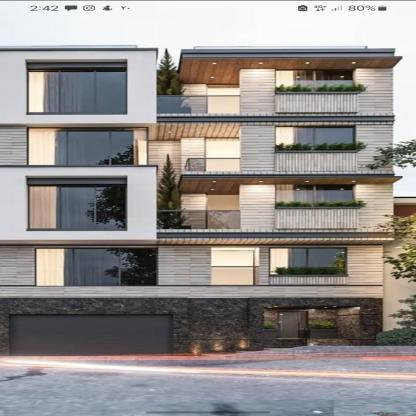Balcony: (157, 210, 241, 229), (157, 95, 241, 113), (188, 158, 241, 172)
Building Outline: (0, 45, 403, 356)
Door: (10, 314, 173, 356), (206, 193, 240, 229), (205, 138, 241, 172), (208, 85, 241, 114), (278, 312, 309, 339)
Facade: (0, 70, 383, 357)
Floor: (0, 176, 394, 233), (0, 237, 383, 293), (0, 121, 394, 172), (0, 69, 394, 116)
Floor Slab: (0, 171, 394, 176), (0, 116, 394, 120), (0, 233, 394, 237), (0, 293, 383, 297)
Ground Floor: (0, 298, 383, 357)
Window: (26, 62, 127, 115), (27, 178, 128, 231), (36, 248, 157, 287), (28, 127, 149, 165), (270, 248, 348, 275), (275, 127, 356, 151), (276, 184, 355, 207), (275, 70, 356, 92), (212, 248, 255, 285)
Window Hole: (26, 59, 127, 115), (27, 176, 128, 231)
